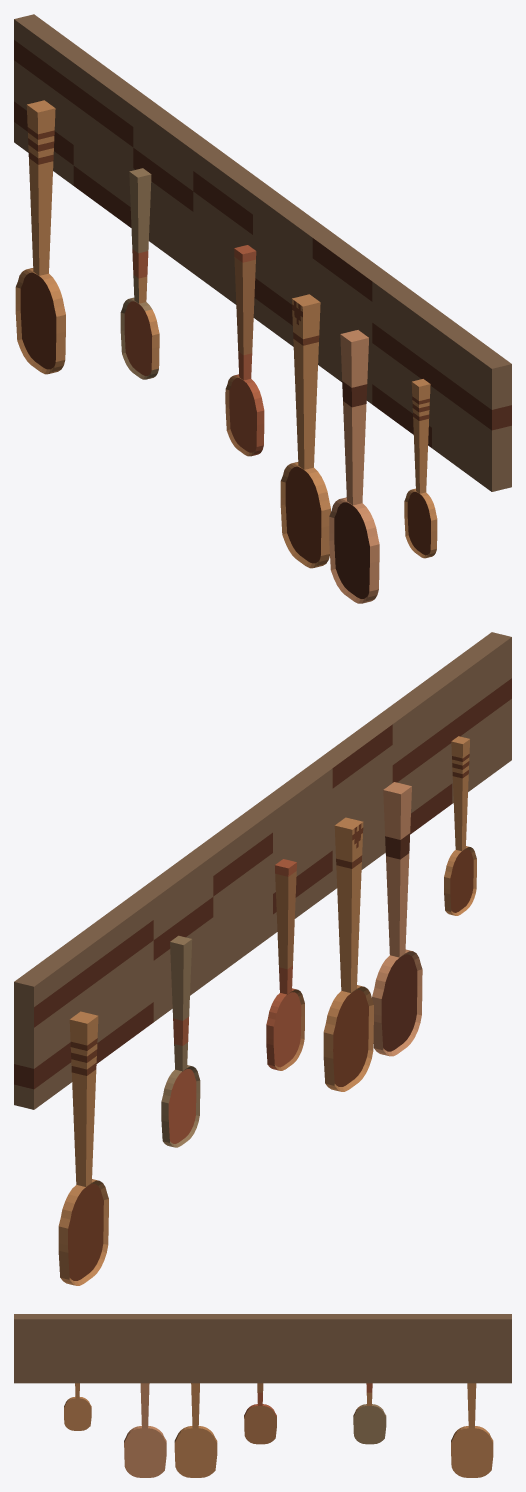
The model's file is cucharas.gltf.
The picture shows the model from 3 angles, top to bottom: view 1: azimuth 30°, elevation 25°; view 2: azimuth 150°, elevation 25°; view 3: azimuth 270°, elevation 25°; orthographic projection. The views are drawn at different scales.
Visible parts, largest first — view 1: Cube.001, Cube.003, Cube.004, Cube.002, Cube.006, Cube.005, Cube.007; view 2: Cube.001, Cube.002, Cube.004, Cube.003, Cube.005, Cube.006, Cube.007; view 3: Cube.001, Cube.002, Cube.003, Cube.004, Cube.005, Cube.006, Cube.007.
Part boxes in pixels (bbox=[...]): Cube.001: bbox=[14, 14, 511, 491]; Cube.003: bbox=[329, 330, 379, 603]; Cube.004: bbox=[15, 100, 65, 374]; Cube.002: bbox=[280, 294, 330, 568]; Cube.006: bbox=[225, 245, 264, 456]; Cube.005: bbox=[120, 168, 159, 379]; Cube.007: bbox=[404, 379, 437, 558]; Cube.001: bbox=[14, 632, 511, 1109]; Cube.002: bbox=[323, 817, 373, 1091]; Cube.004: bbox=[58, 1011, 108, 1285]; Cube.003: bbox=[372, 782, 422, 1056]; Cube.005: bbox=[161, 935, 200, 1147]; Cube.006: bbox=[266, 859, 304, 1070]; Cube.007: bbox=[444, 736, 476, 915]; Cube.001: bbox=[14, 1314, 511, 1383]; Cube.002: bbox=[174, 1383, 217, 1477]; Cube.003: bbox=[124, 1383, 166, 1477]; Cube.004: bbox=[451, 1383, 493, 1477]; Cube.005: bbox=[353, 1383, 386, 1444]; Cube.006: bbox=[244, 1383, 276, 1444]; Cube.007: bbox=[64, 1383, 91, 1430].
Bounding box in the file's own units: 0.2902 × 2.18 × 5.94.
